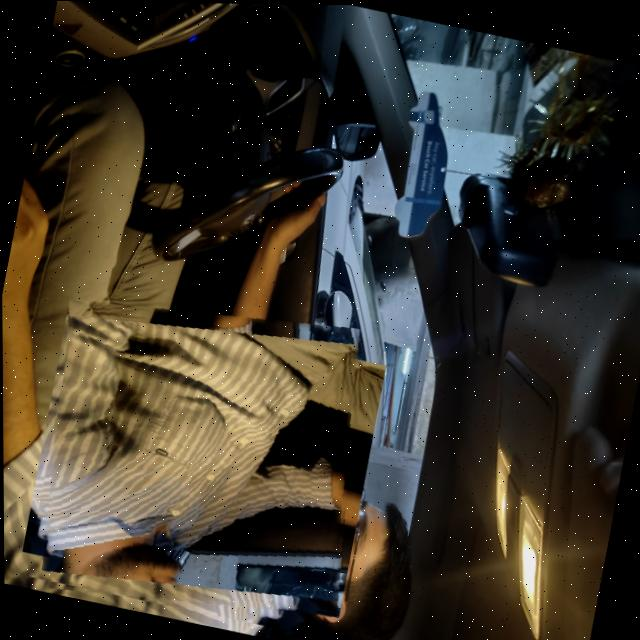no-seatbelt: (23, 277, 382, 638)
